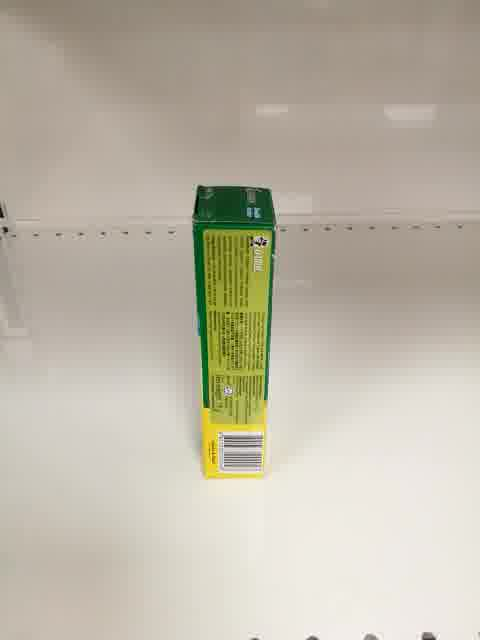toothpaste: (193, 185, 277, 480)
